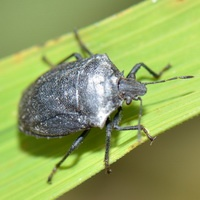insect: (18, 30, 193, 183), (117, 99, 140, 127)
